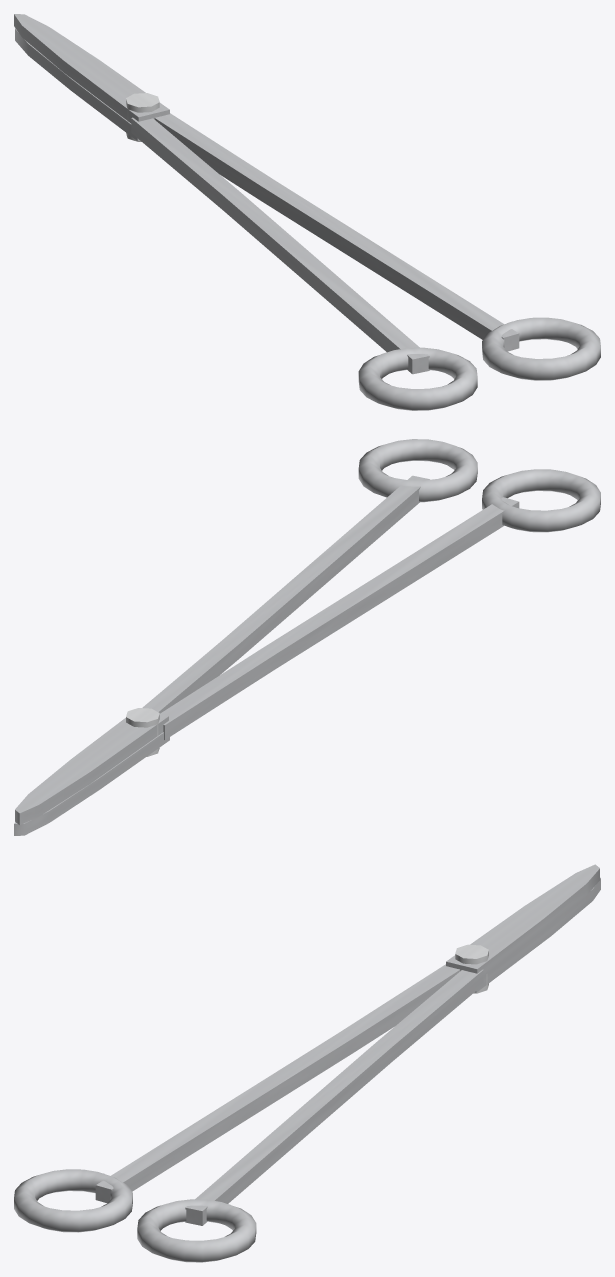
Rendered from metzenbaum_scissors.glb.
3 renders of one model, top to bottom at view 1: azimuth 30°, elevation 25°; view 2: azimuth 150°, elevation 25°; view 3: azimuth 330°, elevation 25°, orthographic.
Parts seen in each view (by area): view 1: s3_metzenbaum_scissors; view 2: s3_metzenbaum_scissors; view 3: s3_metzenbaum_scissors.
Part boxes in pixels (x1,y1,x2,y2): s3_metzenbaum_scissors: (14,14,600,410); s3_metzenbaum_scissors: (14,439,600,835); s3_metzenbaum_scissors: (14,864,600,1262).
Size of the model in its own units: 0.0478 by 0.007 by 0.1799.
1 material, 1 textured.
